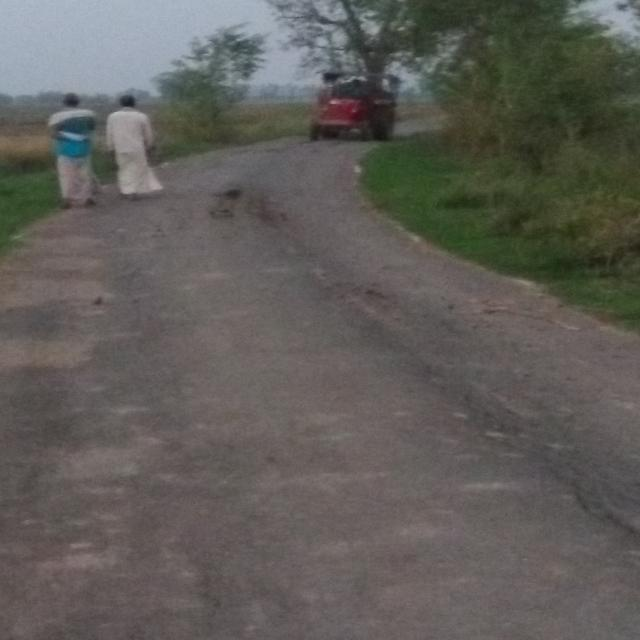tractor: (291, 63, 410, 145)
